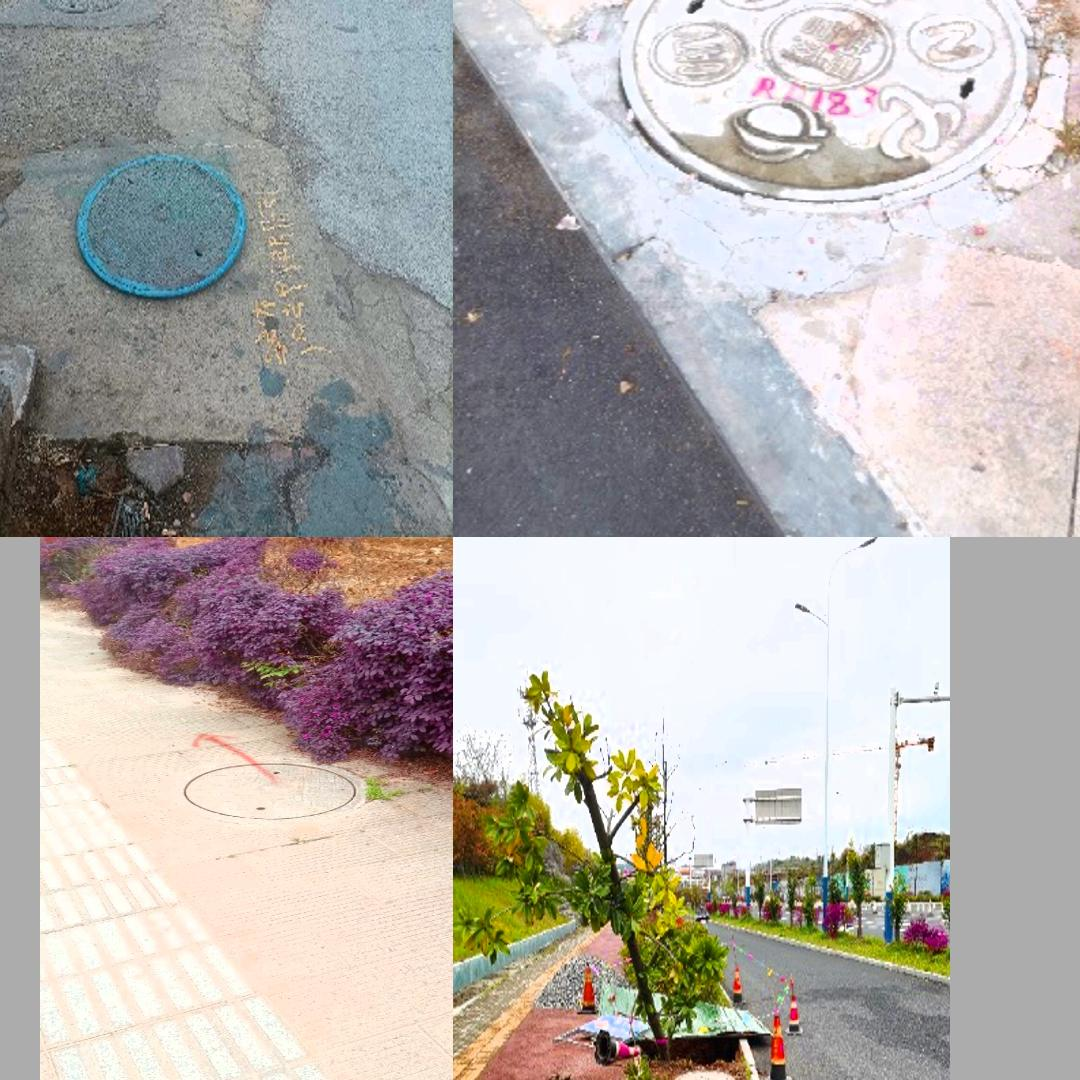good: (620, 0, 1044, 207), (74, 153, 245, 296), (167, 756, 364, 821)
